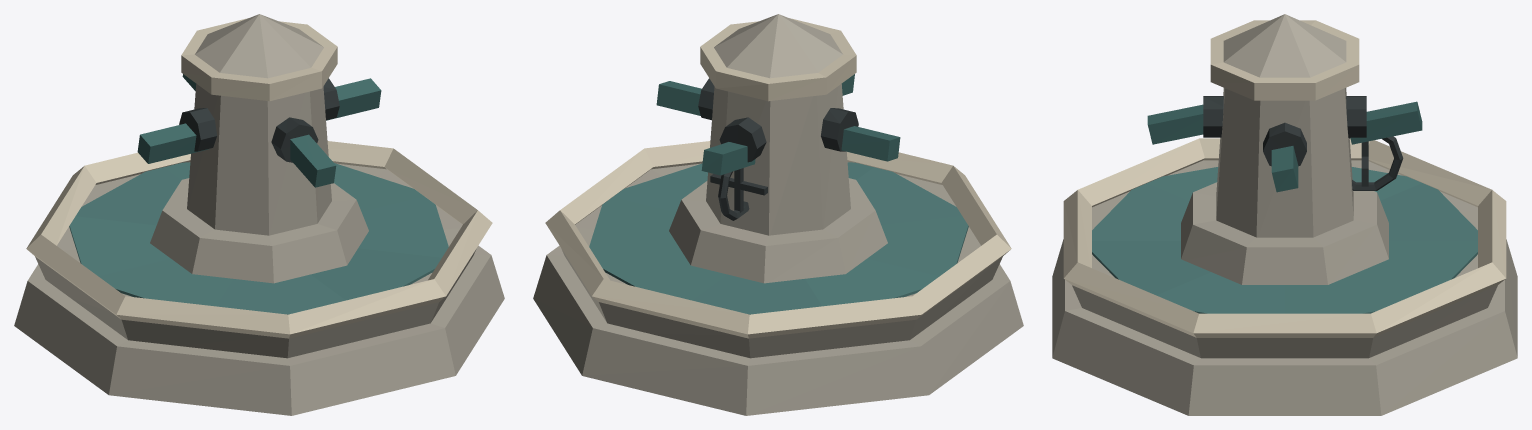
Rendered from Fountain.glb.
3 views of the same model, side by side, from view 1: azimuth 30°, elevation 25°; view 2: azimuth 150°, elevation 25°; view 3: azimuth 270°, elevation 25° (orthographic).
Parts seen in each view (by area): view 1: fountain-static-fountain-pale-stone-basin-pedestal, fountain-static-fountain-solid-blue-green-water, fountain-static-fountain-cream-trim, fountain-static-fountain-muted-teal-spout-accents, fountain-static-fountain-charcoal-pipe-valve; view 2: fountain-static-fountain-pale-stone-basin-pedestal, fountain-static-fountain-solid-blue-green-water, fountain-static-fountain-cream-trim, fountain-static-fountain-charcoal-pipe-valve, fountain-static-fountain-muted-teal-spout-accents; view 3: fountain-static-fountain-pale-stone-basin-pedestal, fountain-static-fountain-cream-trim, fountain-static-fountain-solid-blue-green-water, fountain-static-fountain-muted-teal-spout-accents, fountain-static-fountain-charcoal-pipe-valve.
Boxes of the visible parts, x1=… form: fountain-static-fountain-pale-stone-basin-pedestal: x1=14, y1=14, x2=504, y2=415; fountain-static-fountain-solid-blue-green-water: x1=69, y1=162, x2=448, y2=314; fountain-static-fountain-cream-trim: x1=26, y1=18, x2=492, y2=338; fountain-static-fountain-muted-teal-spout-accents: x1=137, y1=74, x2=381, y2=187; fountain-static-fountain-charcoal-pipe-valve: x1=179, y1=78, x2=339, y2=162; fountain-static-fountain-pale-stone-basin-pedestal: x1=533, y1=14, x2=1023, y2=415; fountain-static-fountain-solid-blue-green-water: x1=589, y1=162, x2=968, y2=314; fountain-static-fountain-cream-trim: x1=545, y1=18, x2=1011, y2=338; fountain-static-fountain-charcoal-pipe-valve: x1=698, y1=78, x2=858, y2=220; fountain-static-fountain-muted-teal-spout-accents: x1=656, y1=74, x2=900, y2=175; fountain-static-fountain-pale-stone-basin-pedestal: x1=1052, y1=14, x2=1517, y2=415; fountain-static-fountain-cream-trim: x1=1063, y1=20, x2=1506, y2=337; fountain-static-fountain-solid-blue-green-water: x1=1092, y1=167, x2=1477, y2=313; fountain-static-fountain-muted-teal-spout-accents: x1=1147, y1=101, x2=1422, y2=192; fountain-static-fountain-charcoal-pipe-valve: x1=1203, y1=96, x2=1403, y2=190.
Bounding box in the file's own units: 3.36 × 2.42 × 3.36.
